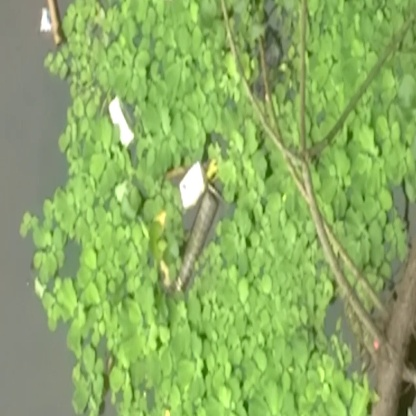branch: (292, 156, 380, 339)
